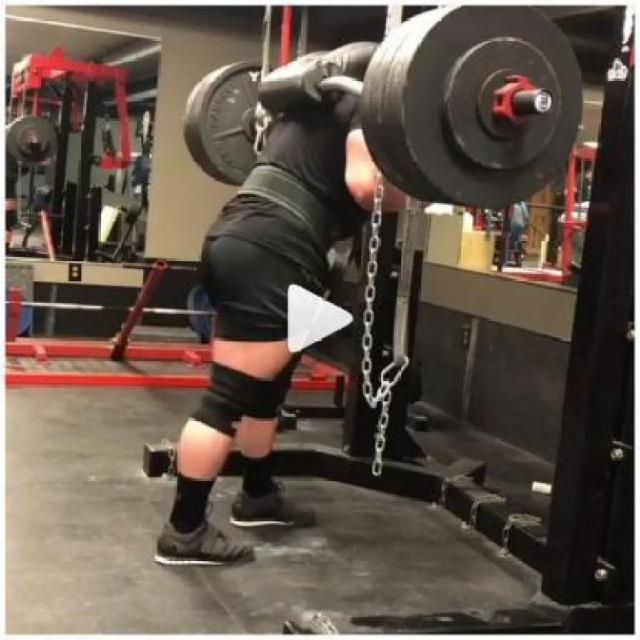Barbell: (532, 85, 558, 118), (28, 132, 42, 146)
